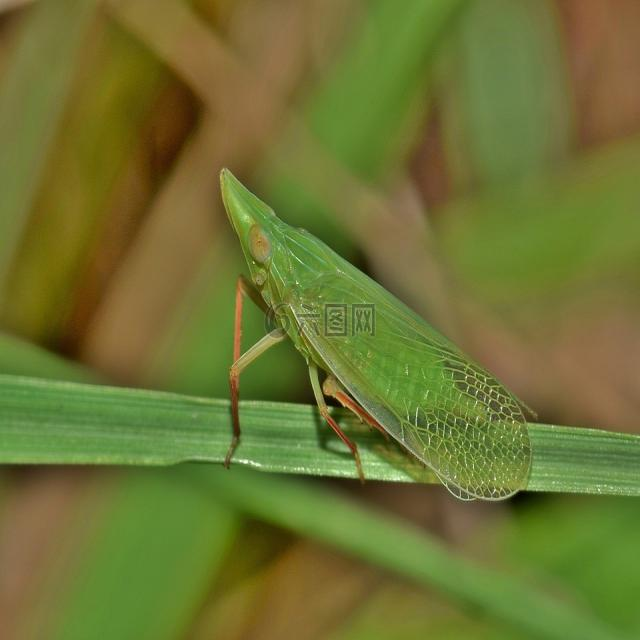Yechan: (193, 162, 551, 520)
